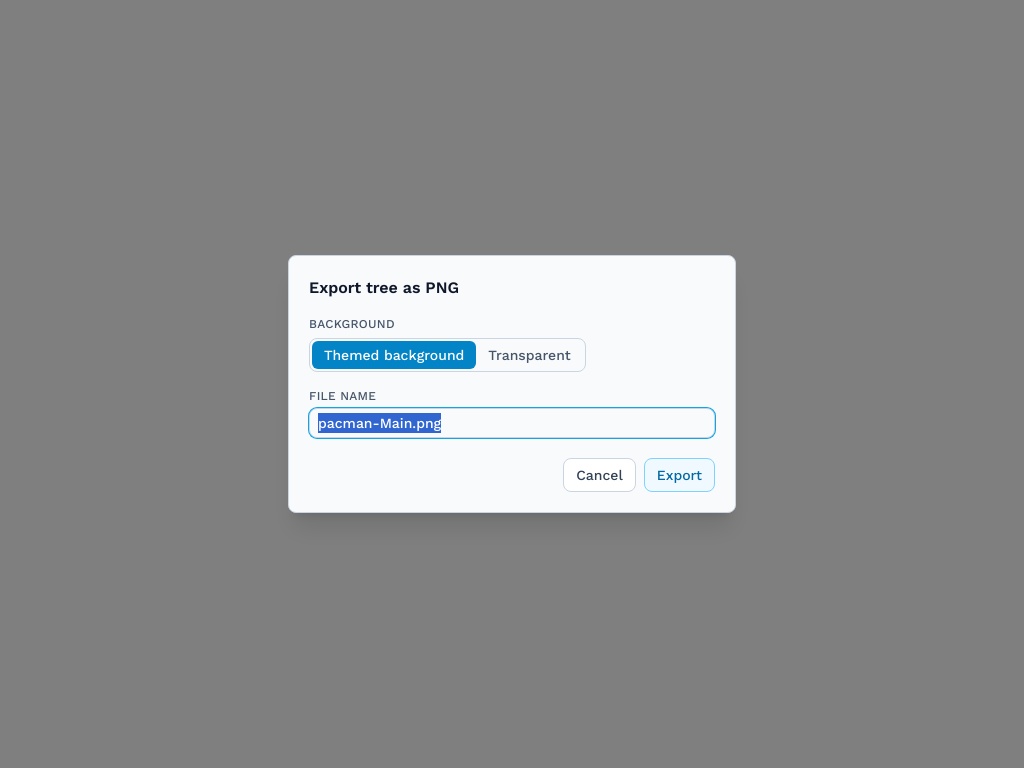
Test case: ExportImageModal › shows an inline error and stays open when export fails (AC1.15)
Click the button "Export" at (679, 475), box [644,458,715,492]
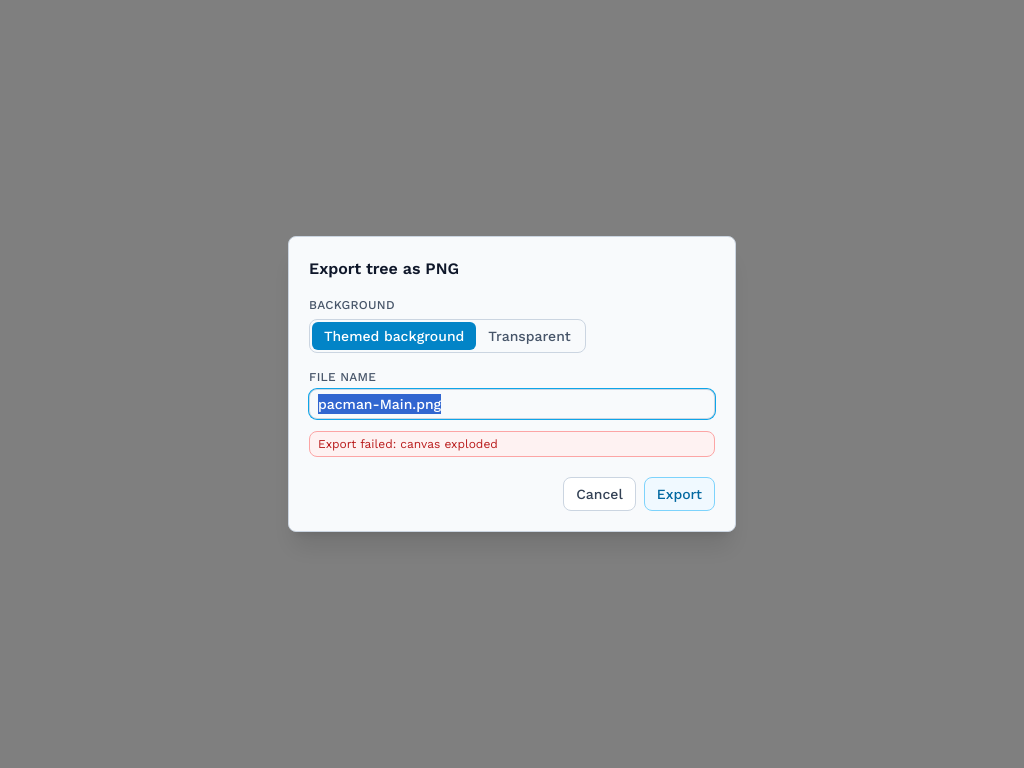
Expected: the message reads "Export failed: canvas exploded", [318,437,498,451]
